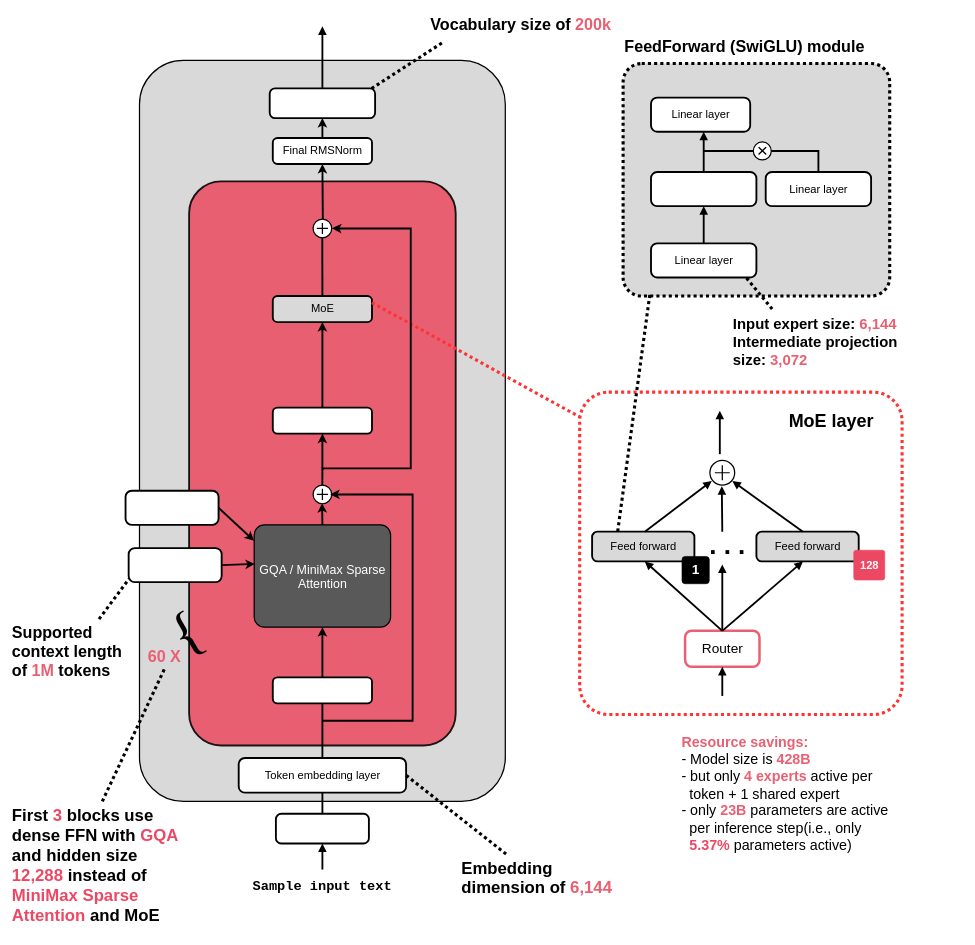
Some shapes in this 975 by 945 pixel diagram are drawn without their labels. The shapes that lost their labels are listed below. From the top down, each one's centre as x and y in pixels, then its label:
At (322,103): "Linear output layer".
At (703,189): "SiLU activation".
At (322,420): "RMSNorm 2".
At (171,507): "QK-Norm".
At (174,565): "RoPE".
At (322,690): "RMSNorm 1".
At (322,828): "Tokenized text".
